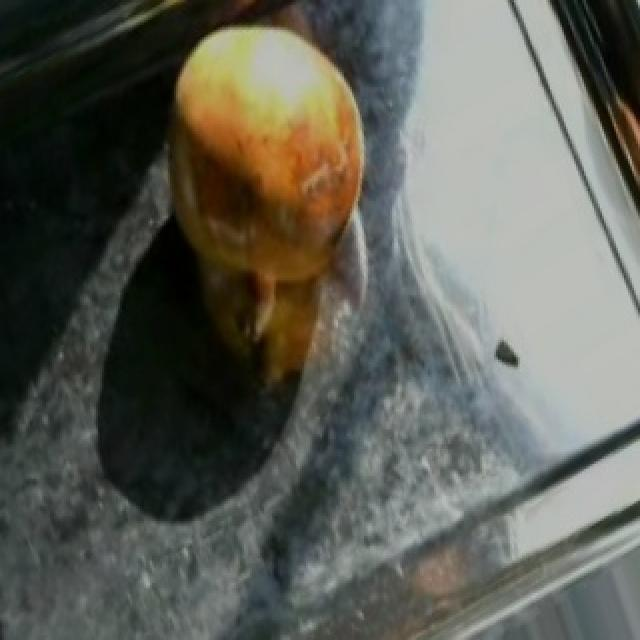fruit: (138, 0, 398, 280)
